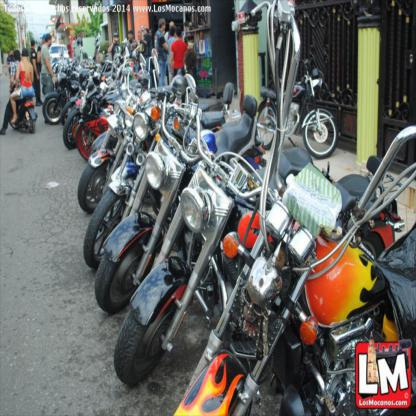motorcycle: (172, 0, 416, 415), (91, 57, 267, 308), (84, 82, 233, 270), (78, 88, 163, 216), (254, 57, 341, 160), (62, 77, 126, 146), (40, 76, 82, 122), (6, 94, 36, 136)
